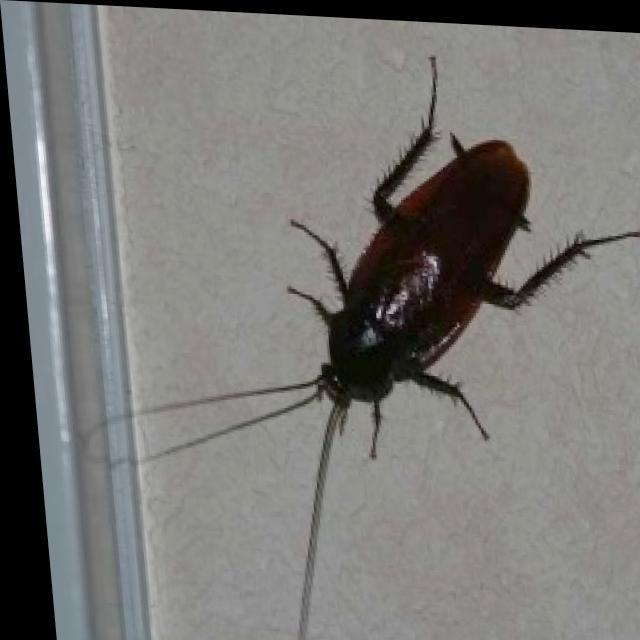cockroach: (110, 51, 637, 636)
